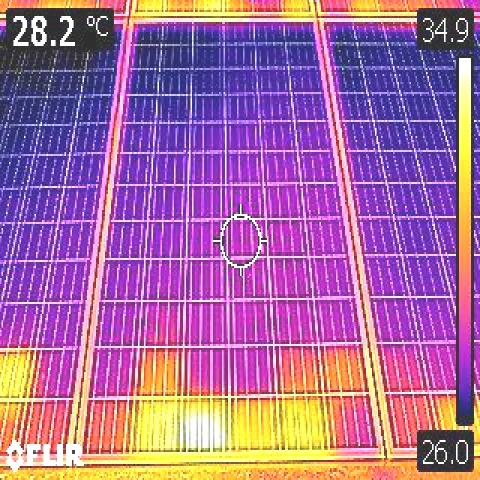fault: (280, 399, 327, 449), (184, 401, 226, 453), (3, 351, 30, 393)
